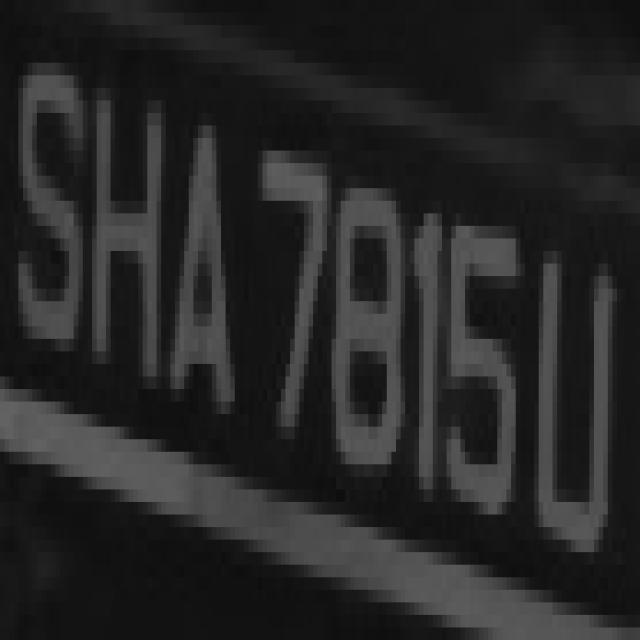1: (396, 150, 447, 540)
5: (447, 163, 520, 565)
7: (244, 100, 332, 477)
8: (318, 113, 400, 502)
A: (152, 75, 244, 452)
H: (78, 50, 166, 452)
S: (9, 12, 83, 376)
U: (520, 201, 617, 602)
